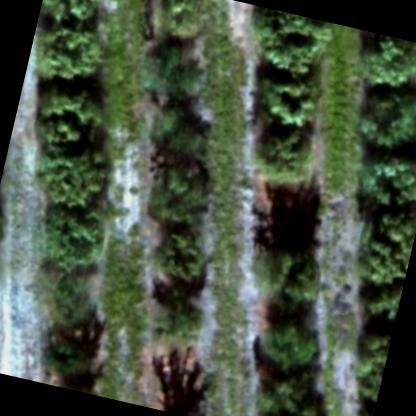Canopy-Citrus: (244, 6, 338, 82), (130, 32, 212, 109), (28, 148, 116, 218), (31, 79, 108, 156), (32, 208, 111, 280), (246, 245, 330, 311), (32, 19, 108, 87), (148, 160, 219, 232), (251, 118, 322, 183), (353, 154, 415, 228), (147, 104, 218, 168), (26, 260, 96, 324), (252, 69, 325, 130), (146, 224, 214, 288), (38, 315, 105, 378), (356, 216, 415, 287), (251, 316, 322, 375), (356, 85, 415, 155), (152, 288, 214, 350), (357, 31, 415, 93), (255, 372, 332, 415), (151, 0, 220, 45), (348, 322, 392, 388), (38, 0, 112, 32), (360, 284, 402, 329), (345, 385, 379, 415)
